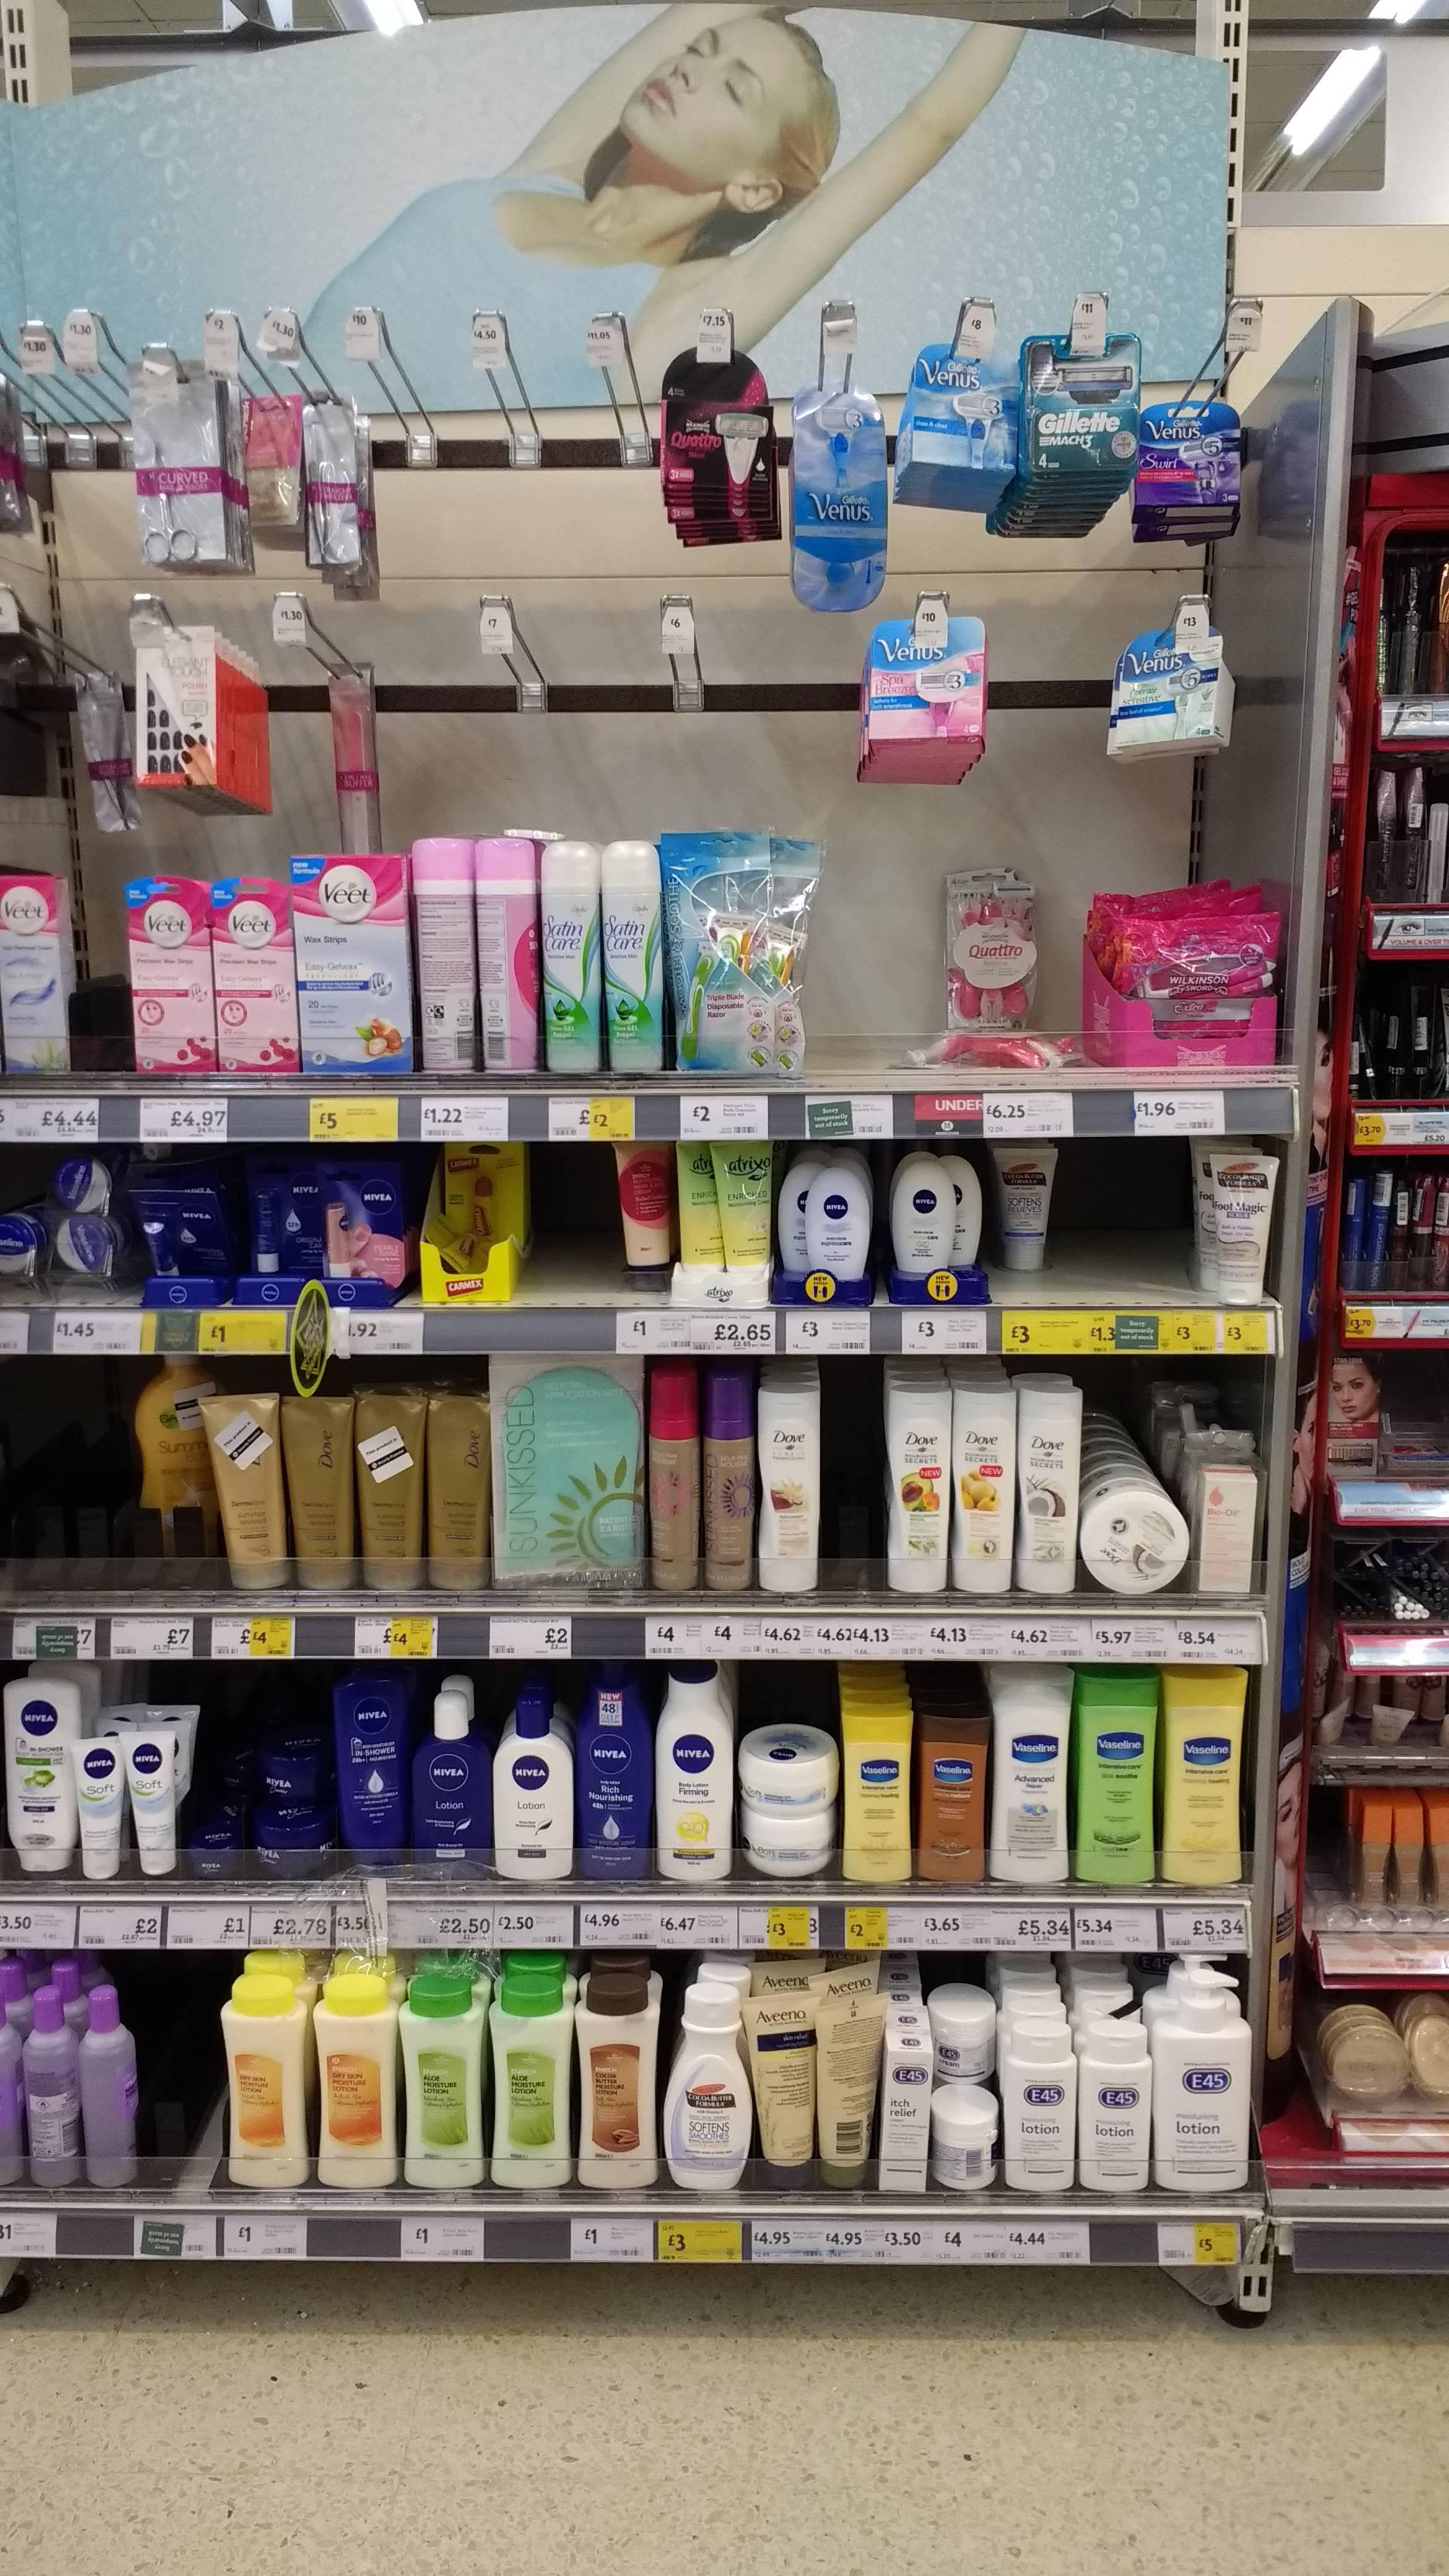misalignment: (897, 1010, 1083, 1072), (131, 1189, 228, 1288), (433, 1203, 492, 1283), (499, 817, 580, 844)
